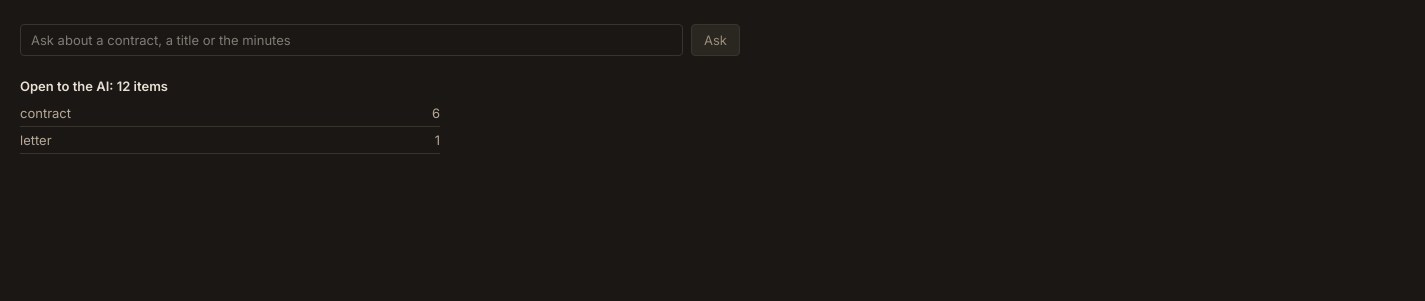
Test: AskPage › clicking a chip opens the passage with the quoted sentence highlighted
Step 1. Type "Who gets subsidiary rights income?" into the field named "Question" → (352, 40), box left=20, top=24, right=683, bottom=56
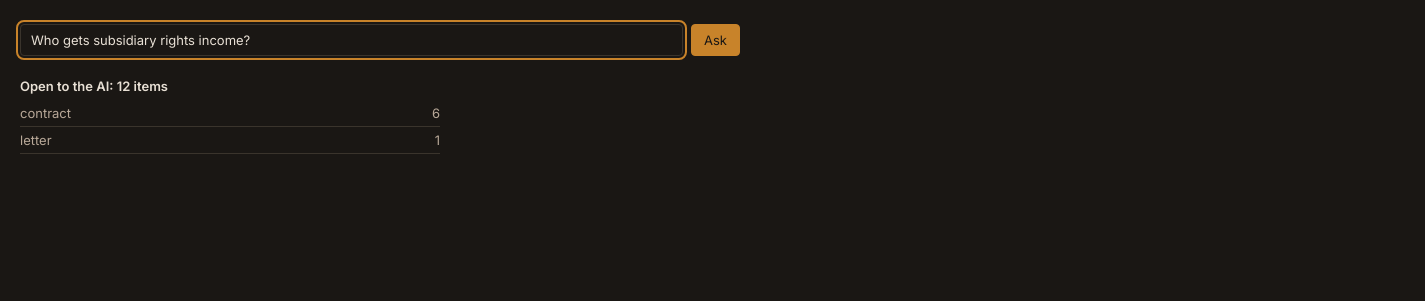
Step 2. Click the button "Ask" → (716, 40), box left=691, top=24, right=740, bottom=56
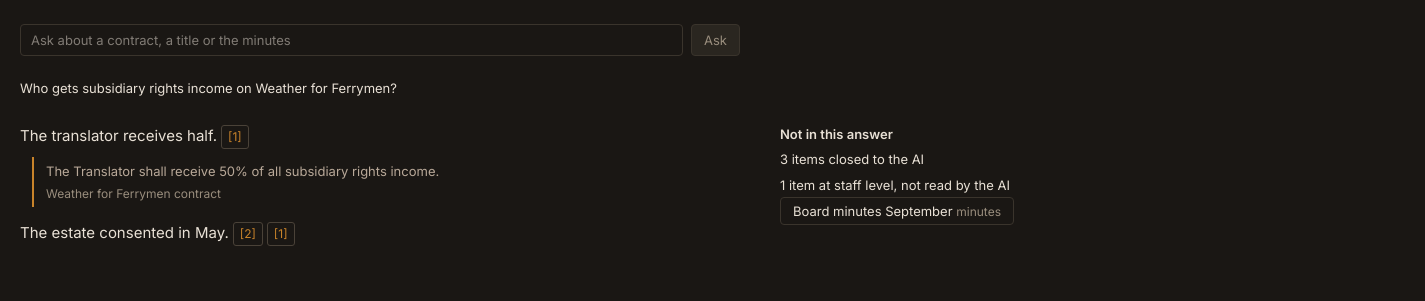
expect the element "Source" is not shown: met
expect the element named "Answer" is shown: met, box left=20, top=124, right=740, bottom=260
Step 3. Click the button named "Source 1" → (235, 137), box left=221, top=125, right=249, bottom=149
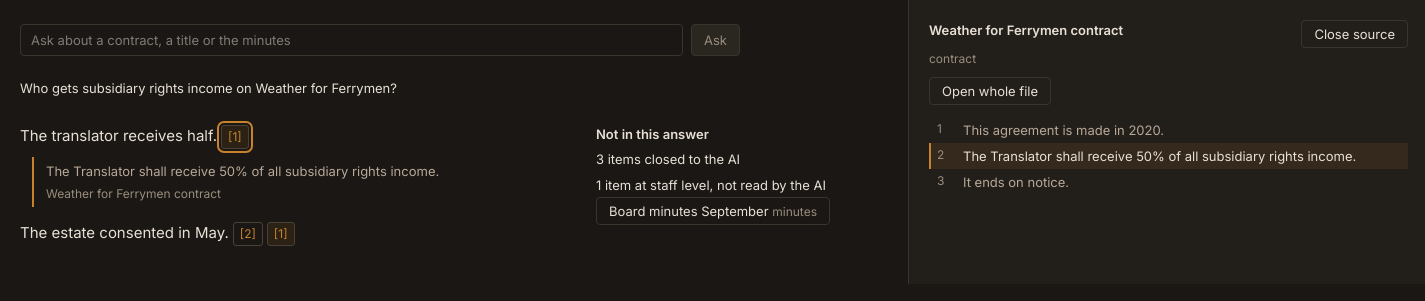
expect the heading "Weather for Ferrymen contract" is shown: met, box left=929, top=22, right=1123, bottom=38
expect the text "contract" is shown: met, box left=929, top=51, right=976, bottom=66
expect the list item with test id "source-sentence-2" shows "The Translator shall receive 50% of all subsidiary rights income.": met, box left=963, top=148, right=1356, bottom=164
